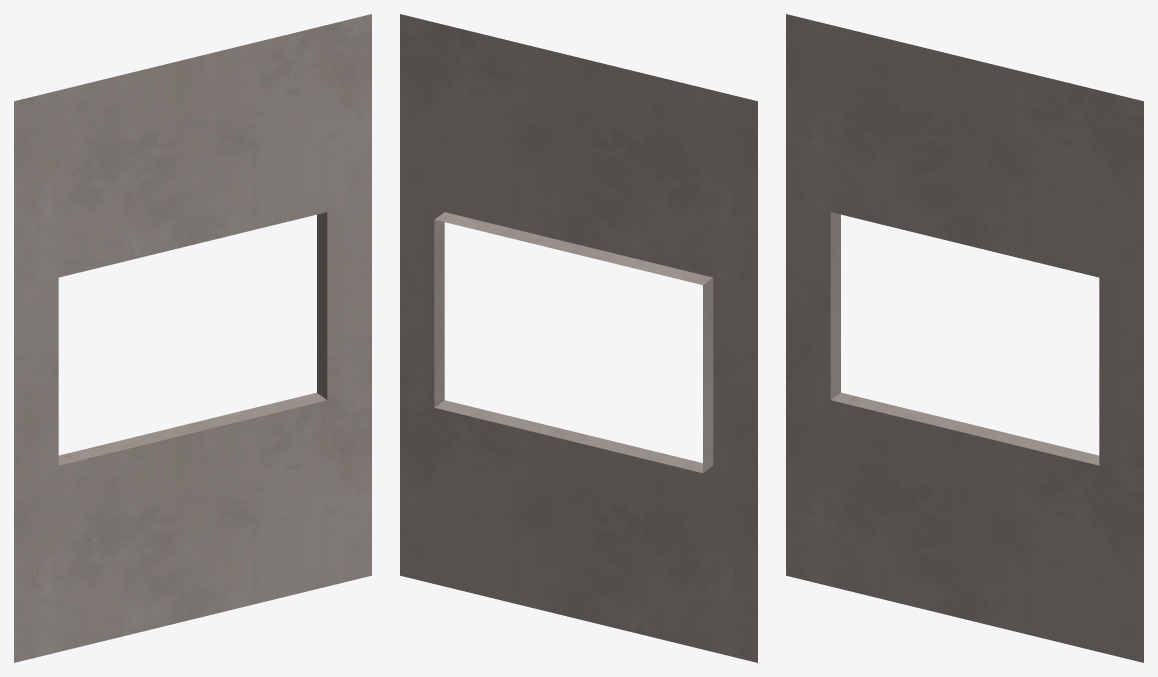
File: SM_ENV_K1_WALL_WINDOW_STRAIGHT_2X3_01.fbx
3 renders of one model, left to right at view 1: azimuth 30°, elevation 25°; view 2: azimuth 150°, elevation 25°; view 3: azimuth 330°, elevation 25°, orthographic.
Visible parts, largest first — view 1: SM_ENV_K1_WALL_WINDOW_STRAIGHT_2X3_01; view 2: SM_ENV_K1_WALL_WINDOW_STRAIGHT_2X3_01; view 3: SM_ENV_K1_WALL_WINDOW_STRAIGHT_2X3_01.
Part boxes in pixels (x1,y1,x2,y2): SM_ENV_K1_WALL_WINDOW_STRAIGHT_2X3_01: (14,14,371,662); SM_ENV_K1_WALL_WINDOW_STRAIGHT_2X3_01: (400,14,757,662); SM_ENV_K1_WALL_WINDOW_STRAIGHT_2X3_01: (786,14,1143,662).
Bounding box in the file's own units: 2 × 3 × 0.1.
